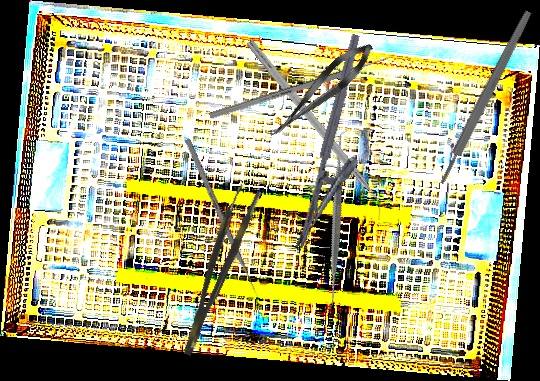Chopper: (237, 39, 391, 223)
Micro Scissor: (262, 35, 380, 146)
Needle Holder: (294, 33, 390, 257)
Pusher: (208, 51, 401, 120), (184, 138, 262, 302)
Scalpel Handle: (436, 9, 534, 186)
Spatula Surgical: (245, 129, 427, 313)
Tissue Forceps: (168, 182, 263, 358)
